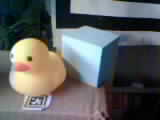duck: (12, 32, 66, 93)
